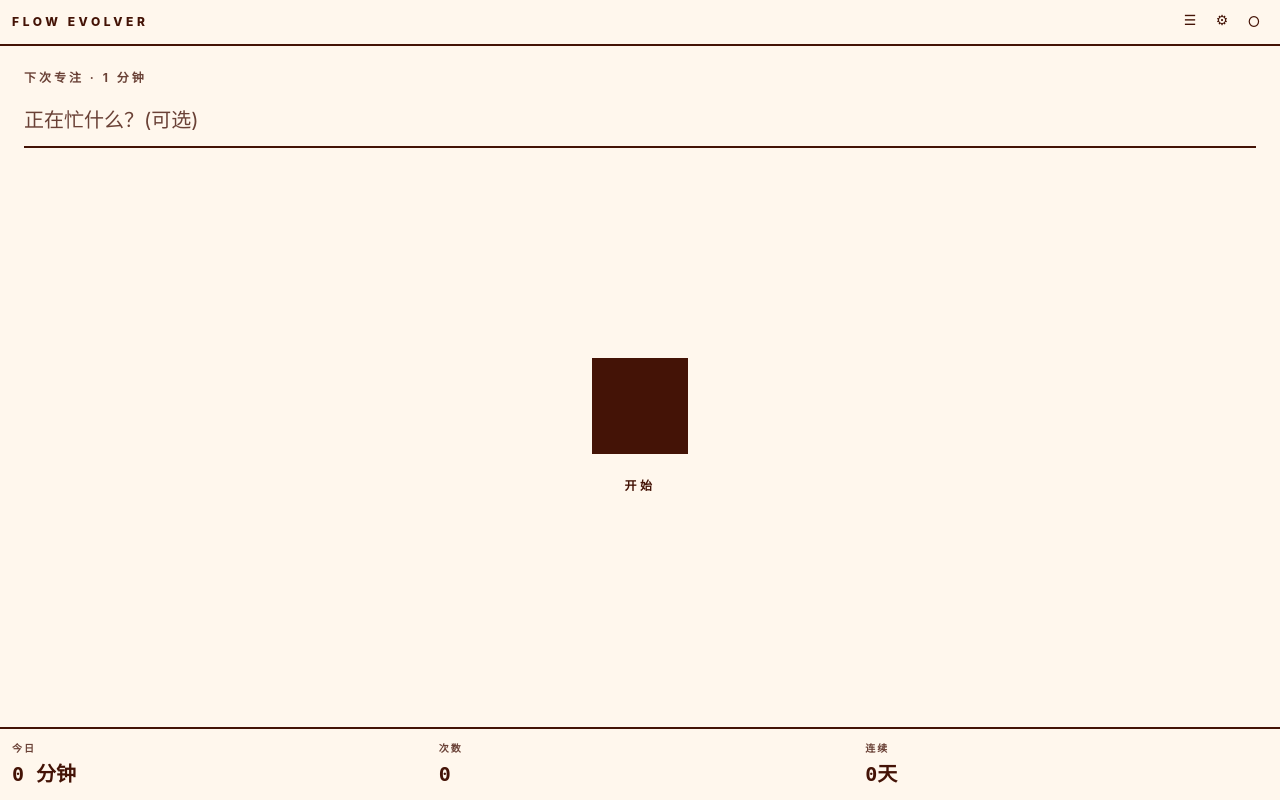
Test: settings sheet › rejects max <= min with an error and keeps the sheet open
Expected: the text "下次专注 · 1 分钟" is shown, [24,70,147,85]
Click the button named "设置": (1222, 22) [1208,8,1236,36]
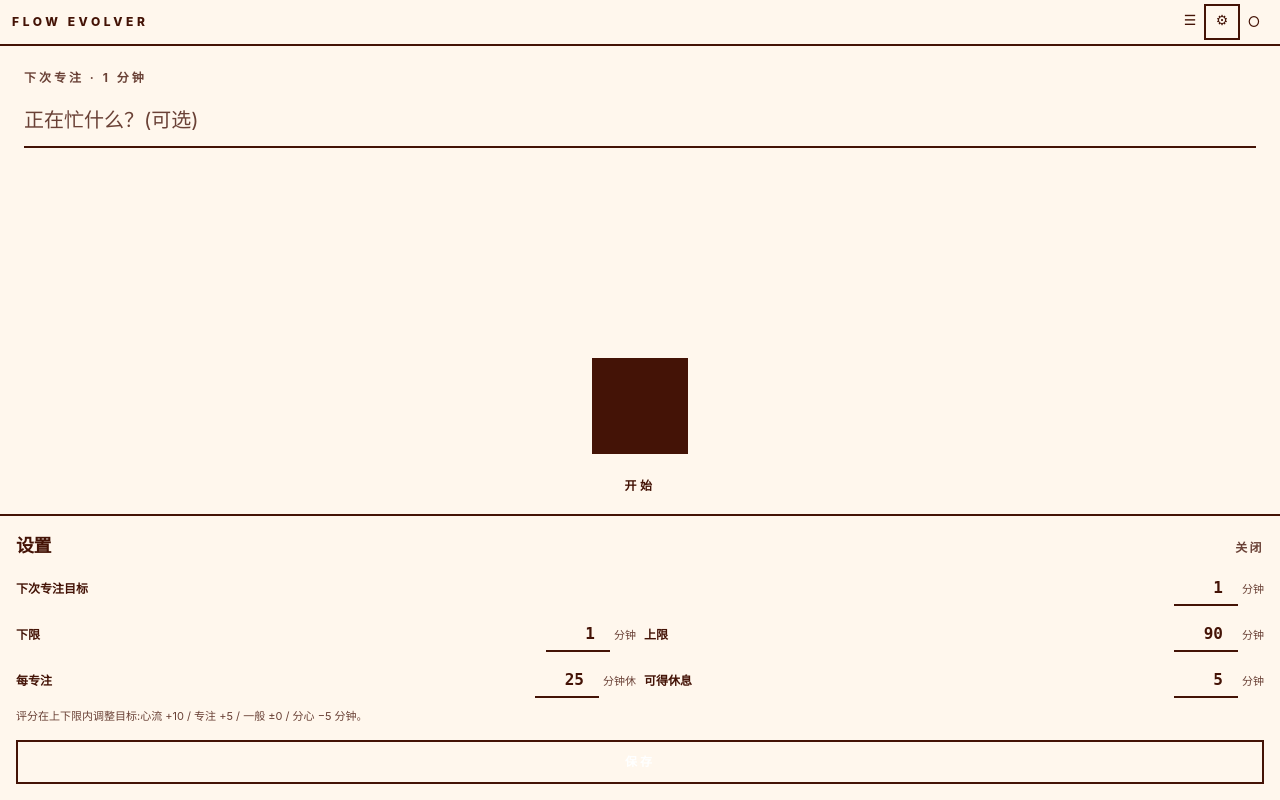
Now the dialog "设置" is shown, box [0,514,1279,799]
Replace the text in the number field labelled "上限" with "5": (1206, 635) [1174,618,1238,652]
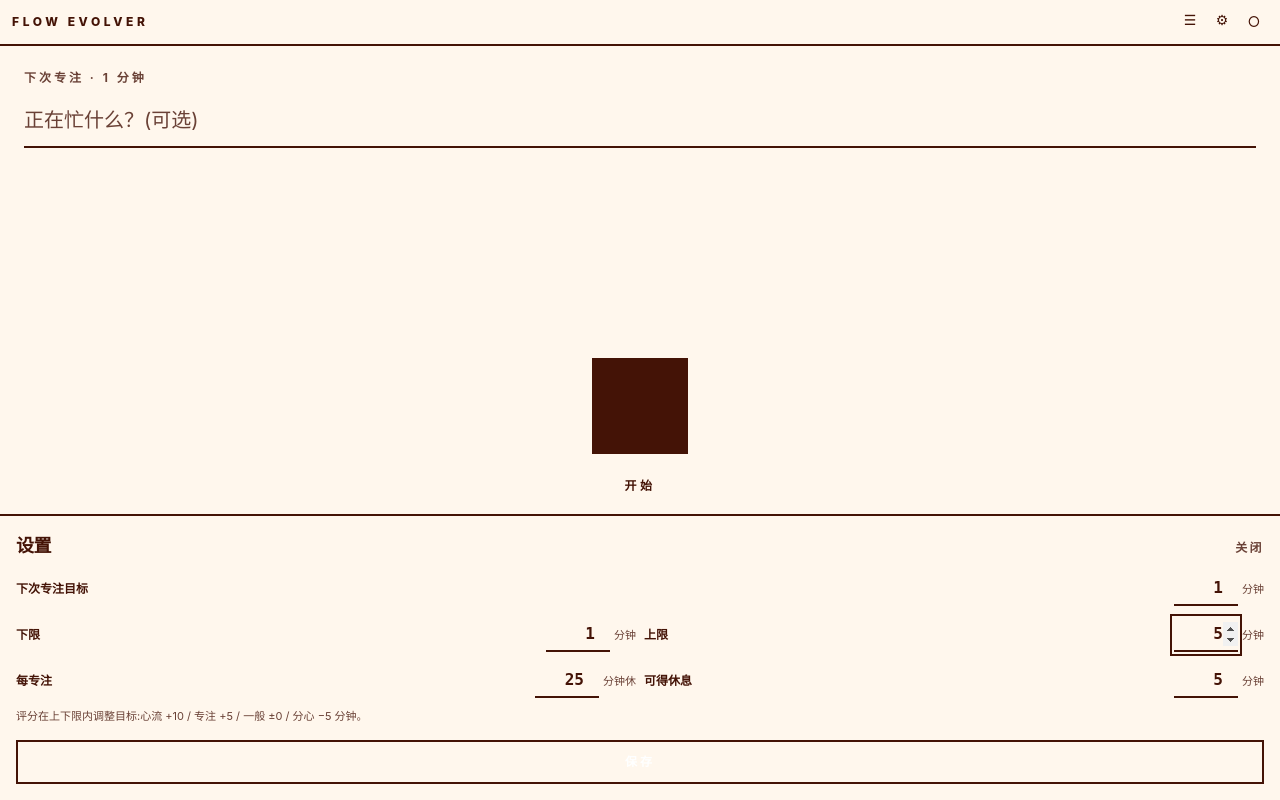
Replace the text in the number field labelled "下限" with "30": (578, 635) [546,618,610,652]
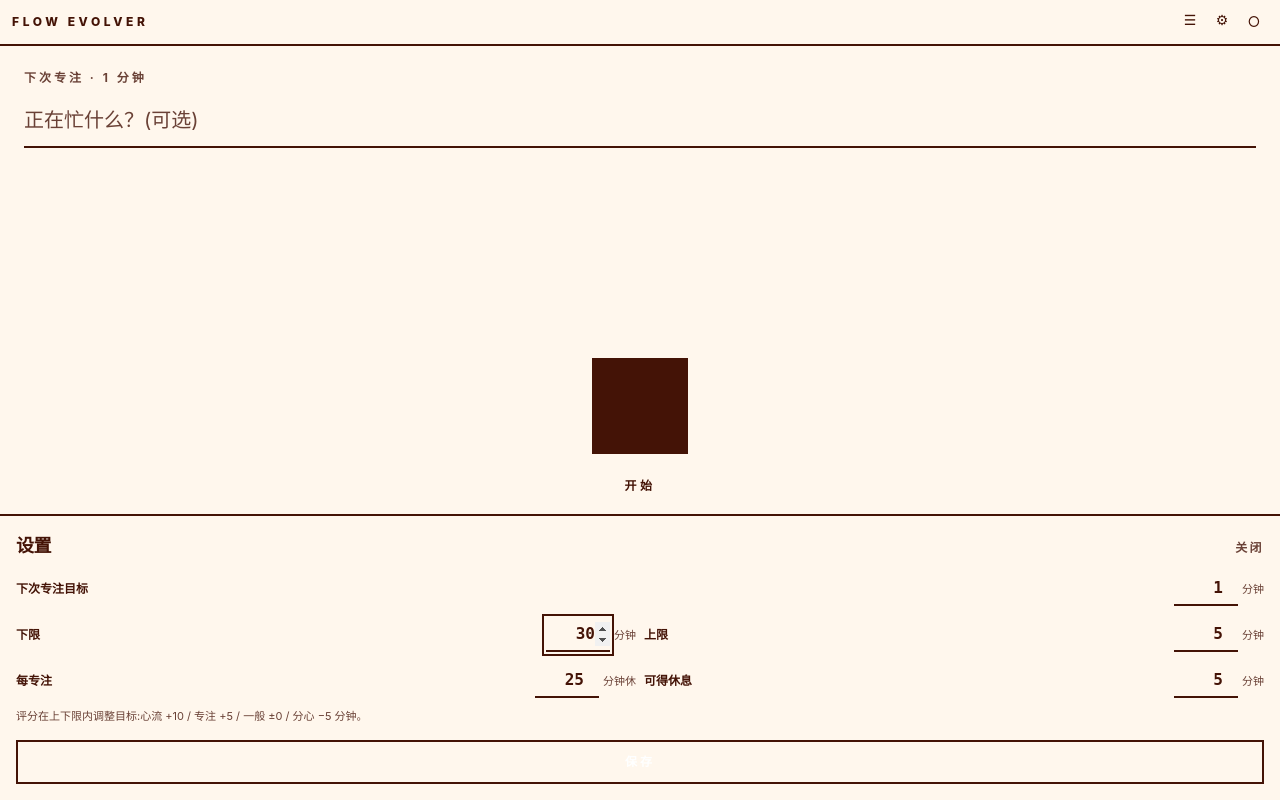
Click the button "保存": (640, 762) [16,740,1264,784]
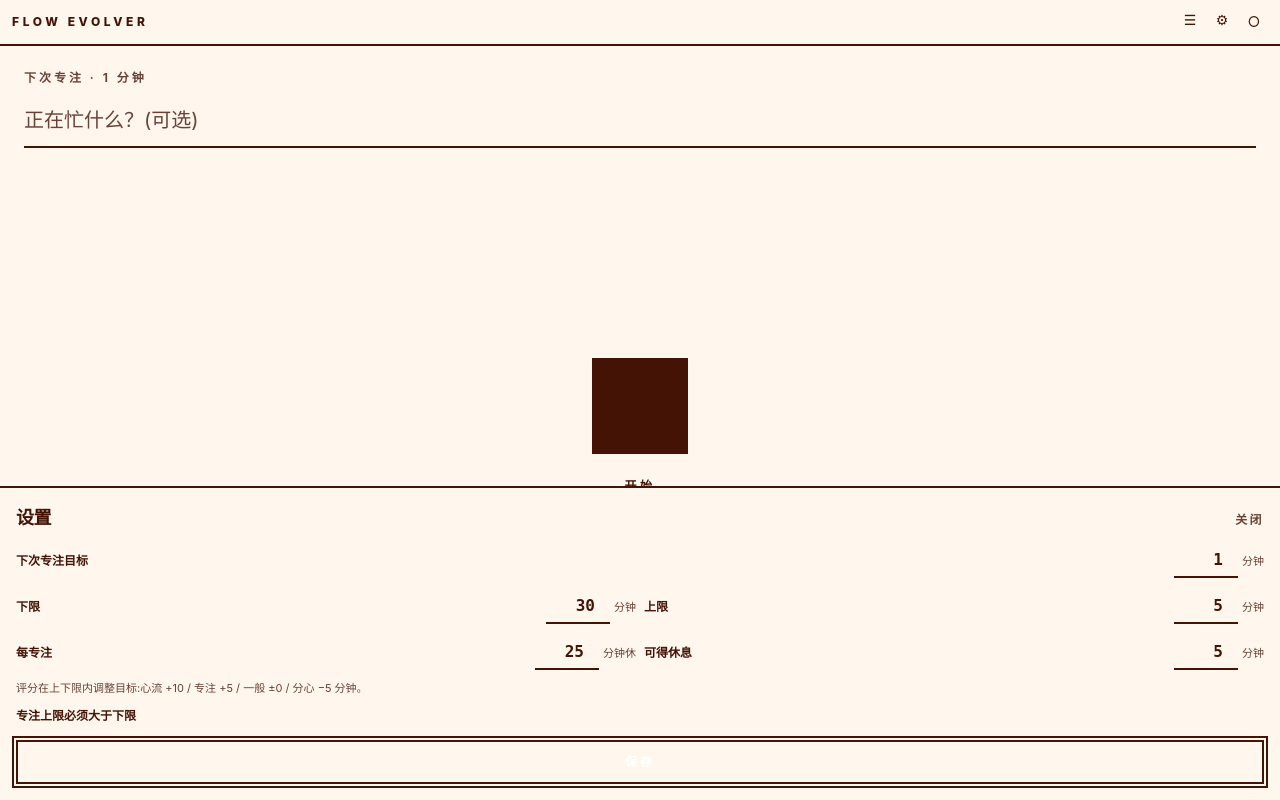
Now the dialog "设置" is shown, box [0,486,1279,799]
Now the message shows "上限必须大于下限", box [16,708,136,723]
